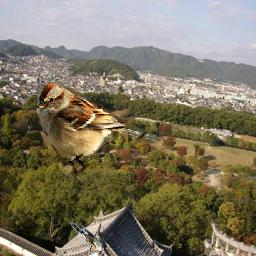Cuckoo: (72, 223, 105, 253)
Sparrow: (37, 82, 161, 180)
